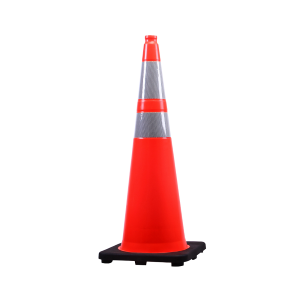traffic cone: (98, 35, 206, 262)
